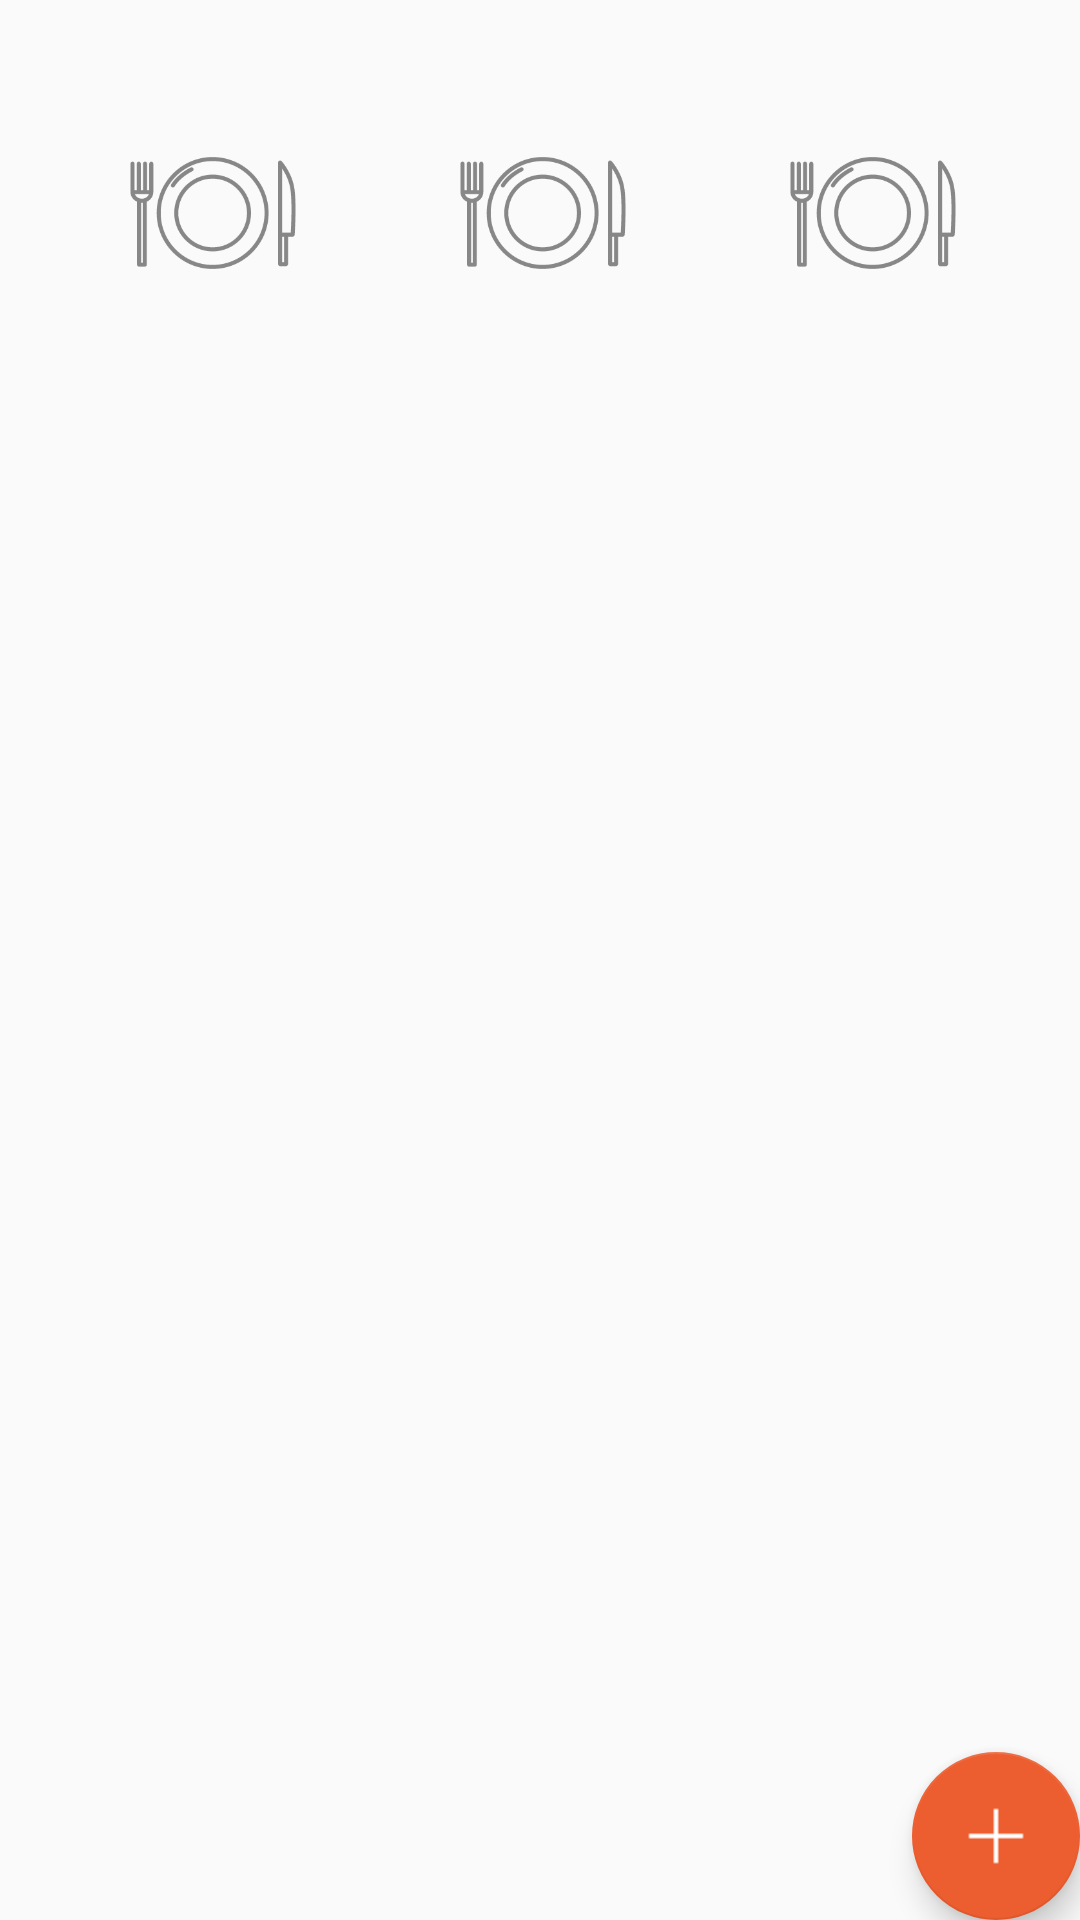

Icons on this 1080 x 1920 Android screen, each with the point to tap as (x=x, y=y):
emptydish: (x=213, y=213), (x=543, y=213), (x=873, y=213)
